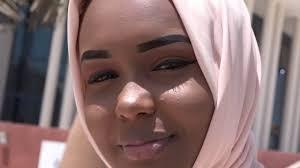No Mask: (64, 1, 248, 168)
